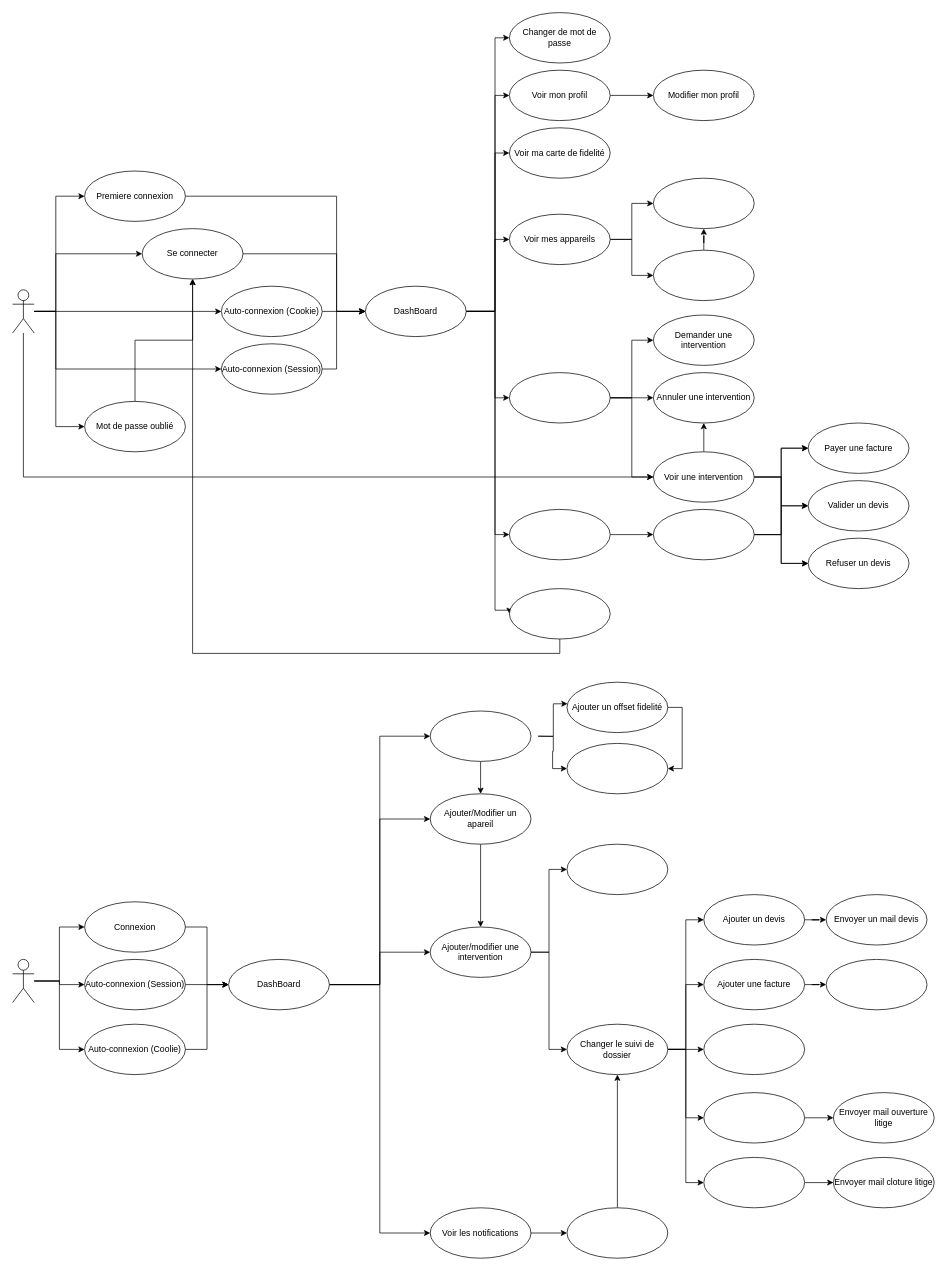
Some shapes in this 947 by 1271 pixel diagram are drawn without their labels. The centre of each missing label's shape, as x and y in pixels:
Ajouter/Modifier un utilisateur: point (480, 735)
Cloturer un litige: point (754, 1182)
Envoyer mail carte de fidelité: point (617, 768)
Envoyer mail confirmation de rendez-vous: point (617, 869)
Envoyer mail facture: point (876, 984)
Me déconnecter: point (559, 613)
Signaler un litige: point (754, 1117)
Supprimer un appareil: point (703, 203)
Tech: point (23, 981)
User: point (23, 311)
Valider le payement: point (754, 1049)
Voir les devis acceptés: point (617, 1232)
Voir mes facture/devis: point (559, 534)
Voir mes interventions: point (559, 397)
Voir un appareil: point (703, 275)
Voir une facture/devis: point (703, 534)
